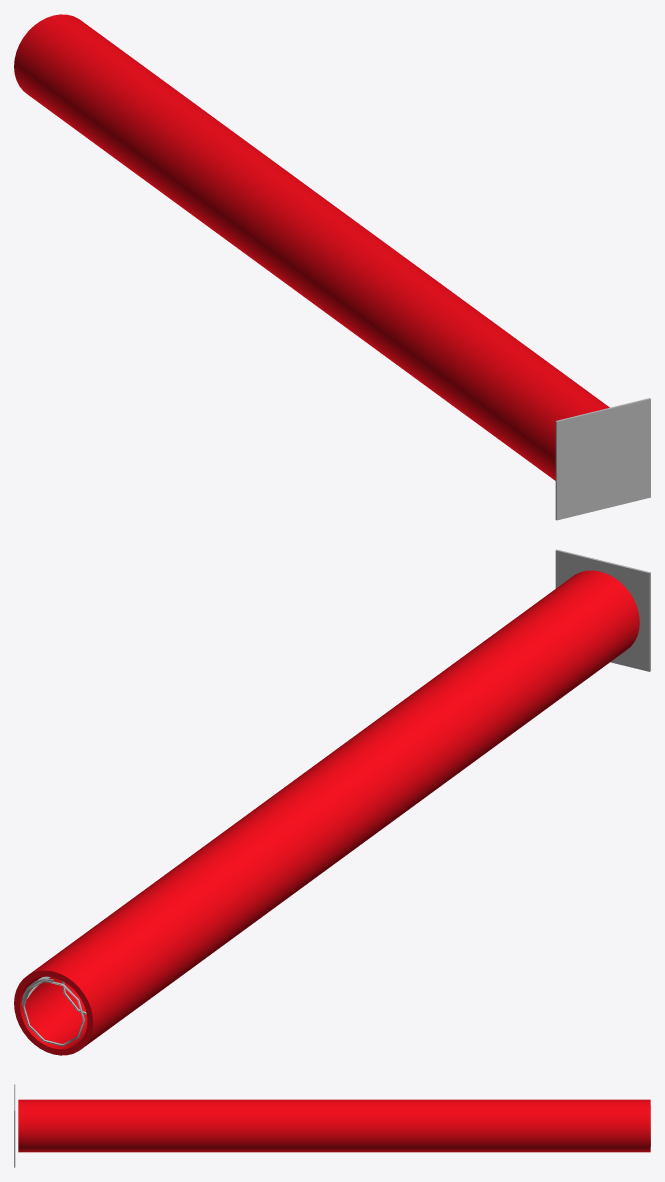
Rendered from WarpRide.gltf.
3 renders of one model, top to bottom at view 1: azimuth 30°, elevation 25°; view 2: azimuth 150°, elevation 25°; view 3: azimuth 270°, elevation 25°, orthographic. The views are drawn at different scales.
Parts seen in each view (by area): view 1: RedCable, D01, D03, D02, D04; view 2: RedCable, D01, D03, D02; view 3: RedCable.
Boxes of the visible parts, <box> form: RedCable: <box>14,14,609,480</box>; D01: <box>555,409,603,470</box>; D03: <box>555,460,603,520</box>; D02: <box>603,398,650,459</box>; D04: <box>604,448,650,508</box>; RedCable: <box>14,570,639,1055</box>; D01: <box>602,561,650,622</box>; D03: <box>610,620,650,671</box>; D02: <box>555,549,603,588</box>; RedCable: <box>18,1099,650,1152</box>.
Size of the model in its own units: 22.43 by 22.43 by 227.
